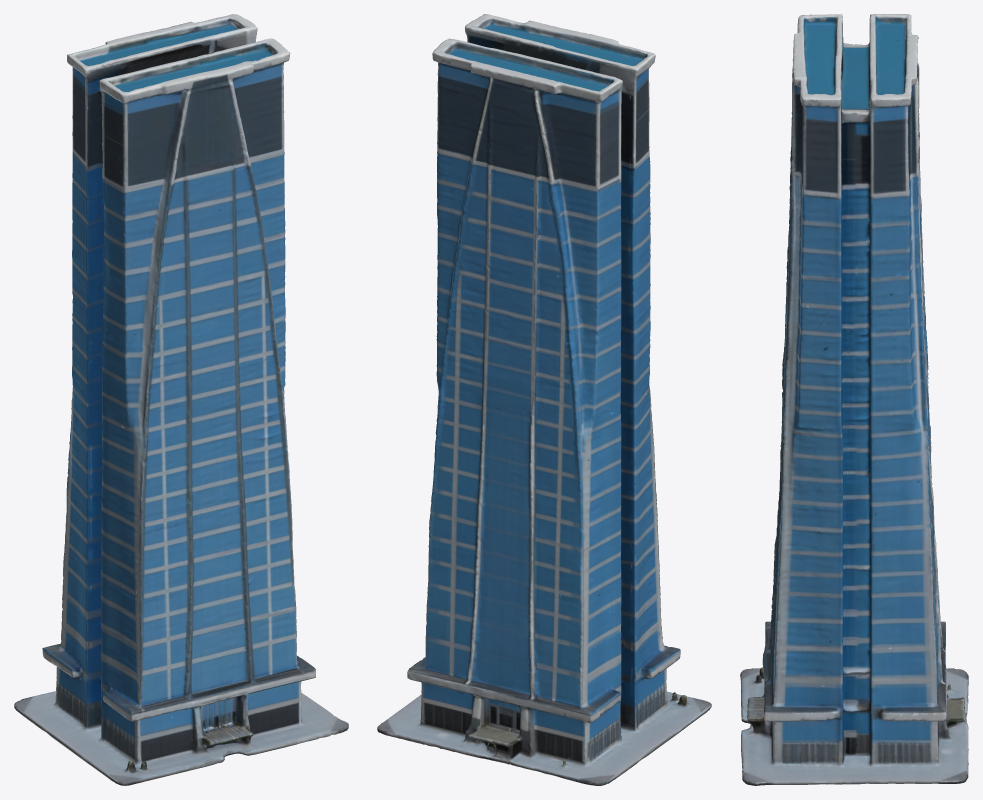
File: Meshy_AI_A_unique_contemporary_0420123820_texture.fbx
3 views of the same model, side by side, from view 1: azimuth 30°, elevation 25°; view 2: azimuth 150°, elevation 25°; view 3: azimuth 270°, elevation 25° (orthographic).
Parts seen in each view (by area): view 1: Mesh_0; view 2: Mesh_0; view 3: Mesh_0.
Part boxes in pixels (left/top/right/bottom): Mesh_0: left=14, top=14, right=348, bottom=785; Mesh_0: left=377, top=14, right=711, bottom=785; Mesh_0: left=740, top=14, right=968, bottom=785.
Size of the model in its own units: 73.71 by 200 by 61.45.
1 material, 1 textured.
